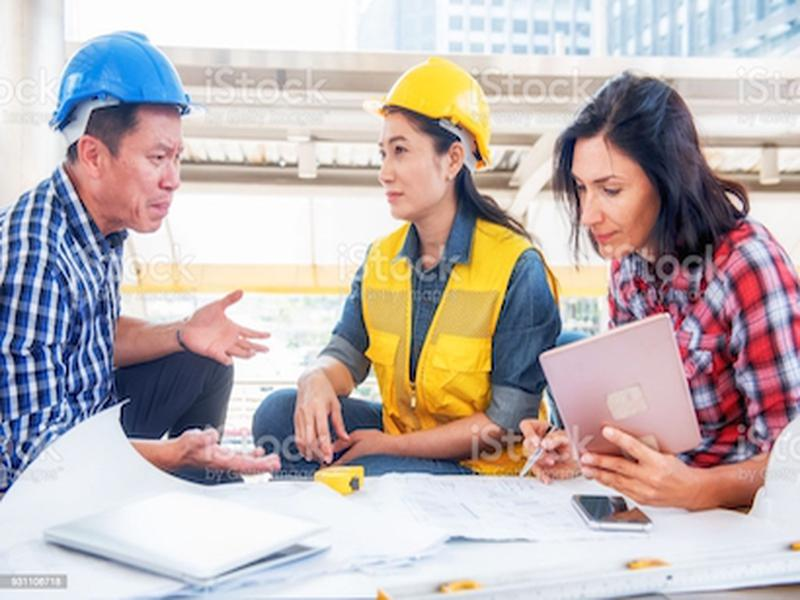hard-hat: (358, 51, 498, 174), (46, 29, 195, 137)
